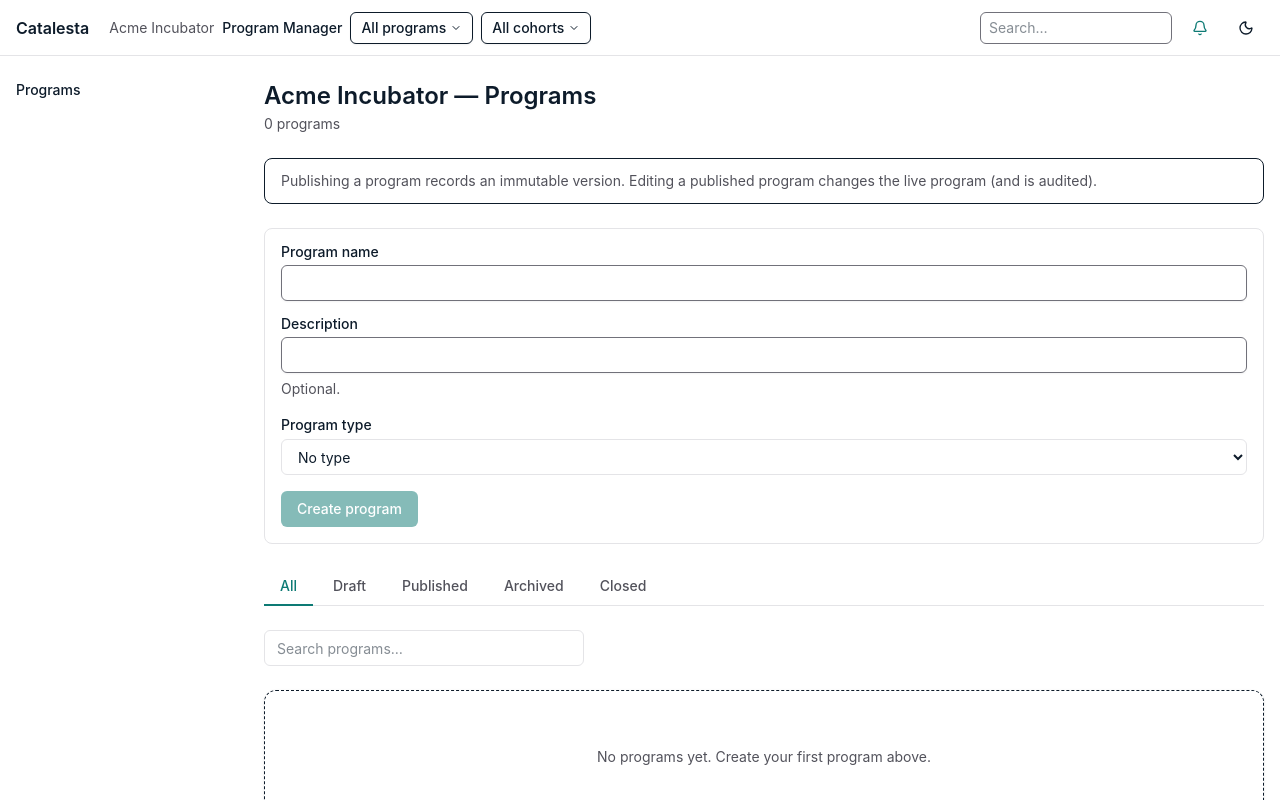
Test: create error preserves the entered name and shows a banner
Expected: the text "No programs yet. Create your first program above." is shown, x1=597 y1=747 x2=931 y2=767
Type "Spring Accelerator" into the field labelled "Program name" at coordinates (764, 283), box x1=281 y1=265 x2=1247 y2=301
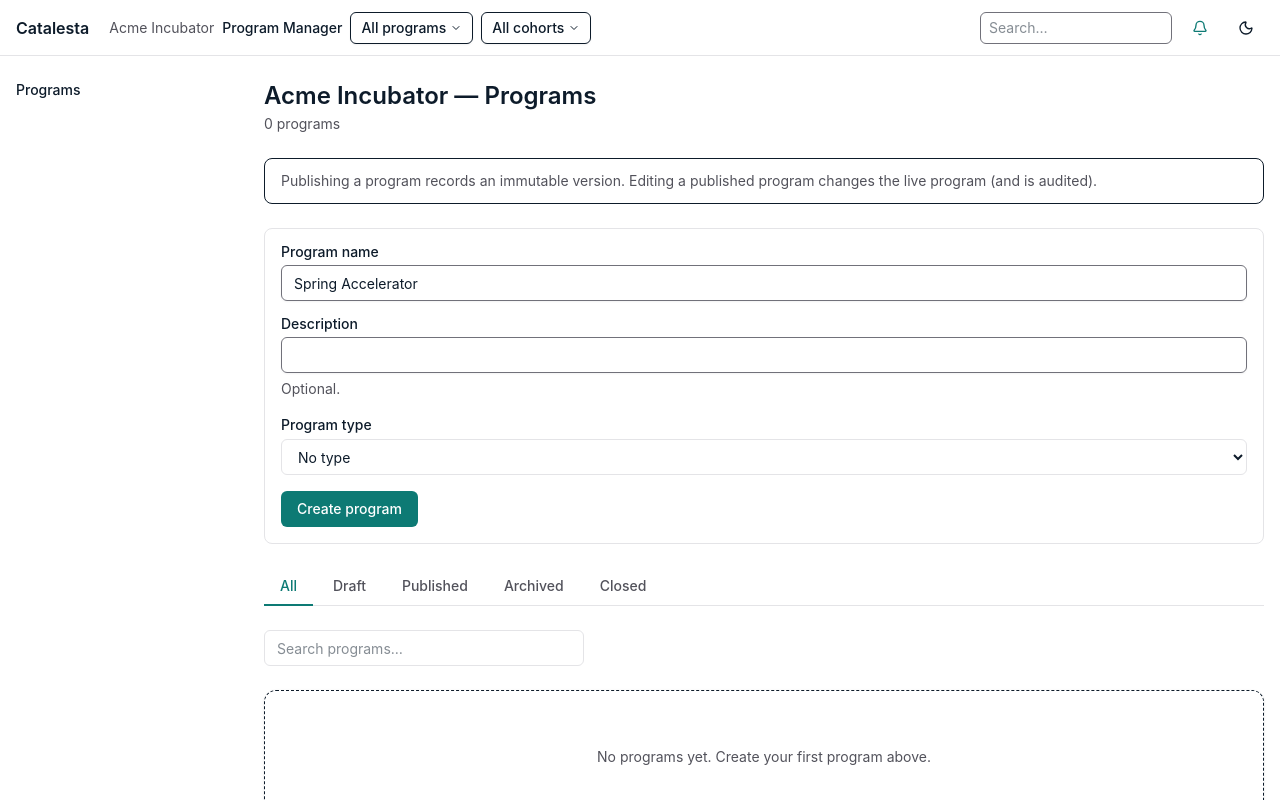
Click the button "Create program" at coordinates (350, 509), box x1=281 y1=491 x2=418 y2=527
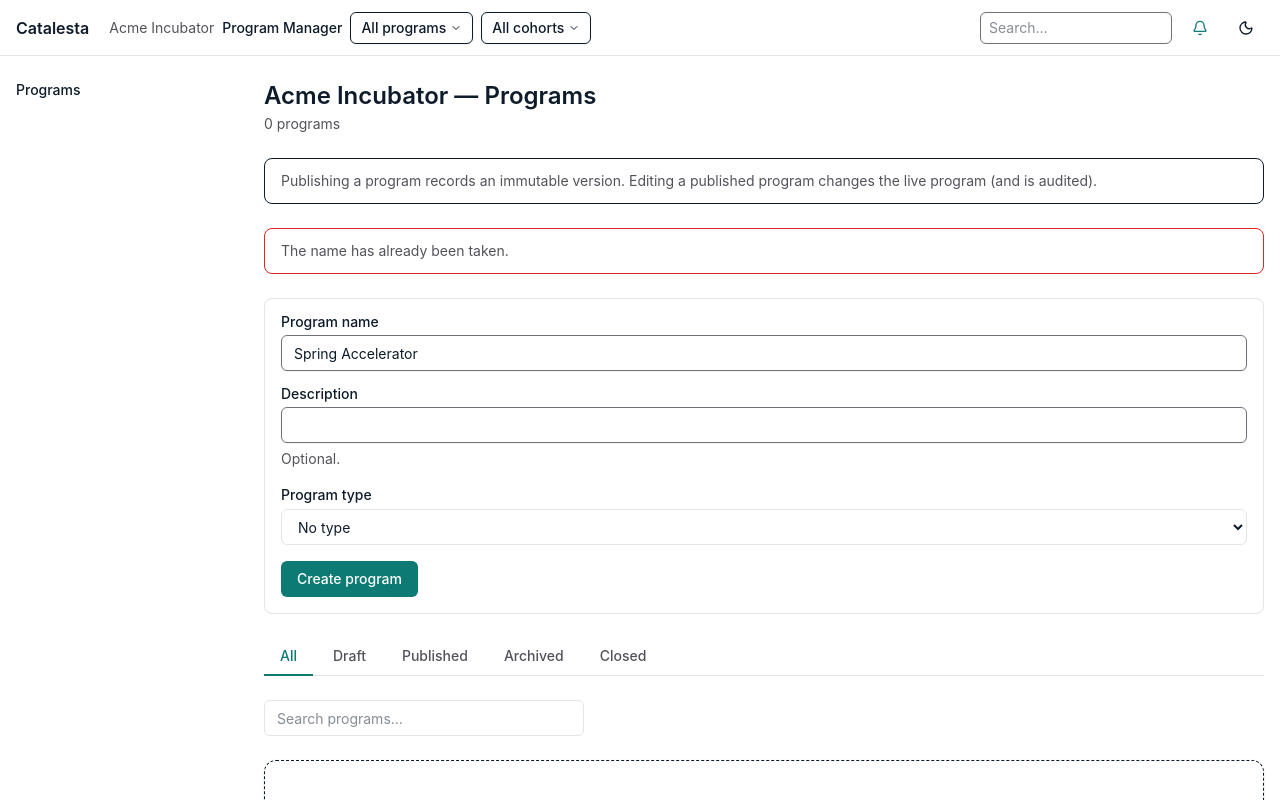
Now the text "The name has already been taken." is shown, box x1=281 y1=242 x2=509 y2=259
